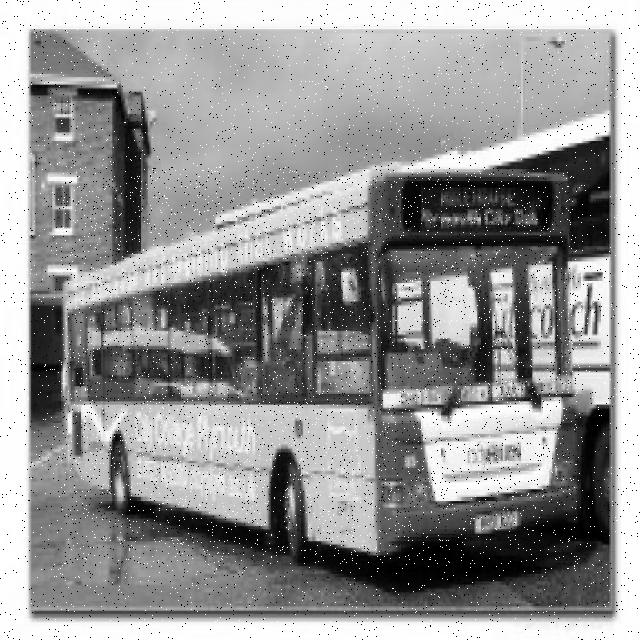Bus: (61, 167, 583, 564)
